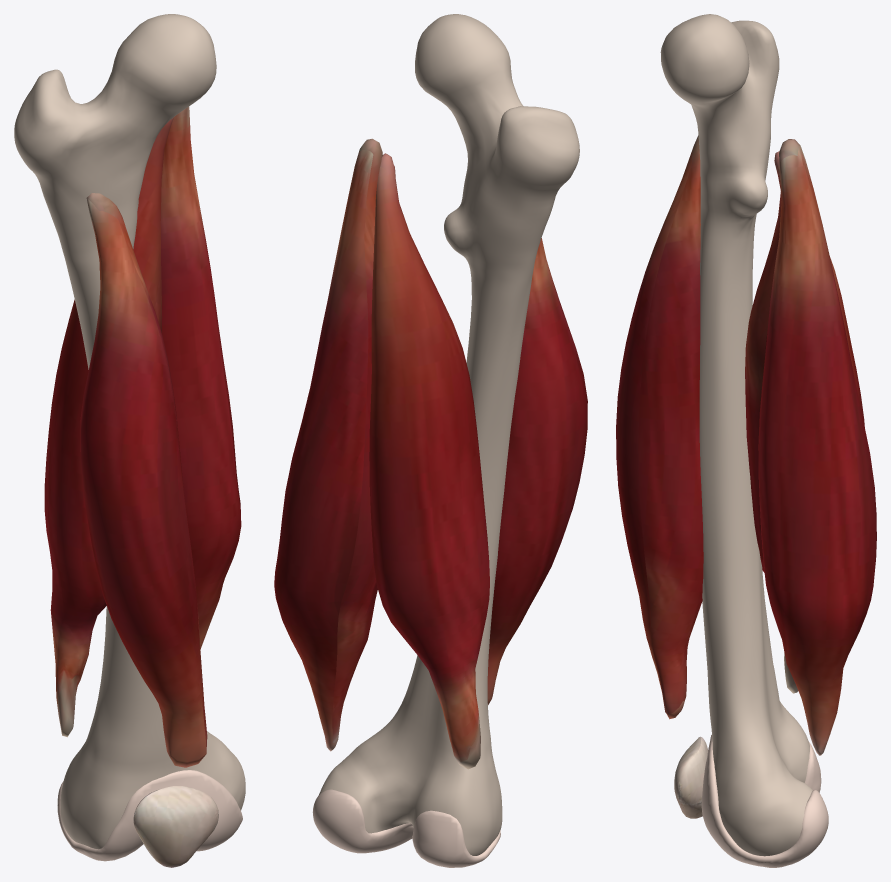
File: UpperLeg.gltf
The picture shows the model from 3 angles, left to right: view 1: azimuth 30°, elevation 25°; view 2: azimuth 150°, elevation 25°; view 3: azimuth 270°, elevation 25°; orthographic projection. The views are drawn at different scales.
Parts seen in each view (by area): view 1: Articular Cartilage, muscle 01, muscle 03, muscle 02, patella, Object004; view 2: Articular Cartilage, muscle 02, muscle 03, muscle 01, Object004; view 3: Articular Cartilage, muscle 03, muscle 01, muscle 02, Object004, patella.
Part boxes in pixels (bbox=[...]): Articular Cartilage: bbox=[14, 14, 245, 849]; muscle 01: bbox=[80, 193, 207, 767]; muscle 03: bbox=[160, 106, 241, 649]; muscle 02: bbox=[44, 117, 173, 737]; patella: bbox=[133, 786, 218, 867]; Object004: bbox=[57, 770, 242, 861]; Articular Cartilage: bbox=[319, 14, 579, 855]; muscle 02: bbox=[369, 153, 489, 769]; muscle 03: bbox=[274, 138, 382, 751]; muscle 01: bbox=[487, 238, 587, 704]; Object004: bbox=[312, 789, 500, 867]; Articular Cartilage: bbox=[660, 14, 812, 856]; muscle 03: bbox=[758, 139, 876, 755]; muscle 01: bbox=[616, 135, 703, 719]; muscle 02: bbox=[745, 151, 864, 693]; Object004: bbox=[701, 735, 828, 867]; patella: bbox=[674, 736, 707, 818].
Bounding box in the file's own units: 0.3779 × 1.19 × 0.3458.
4 materials, 2 textured.
